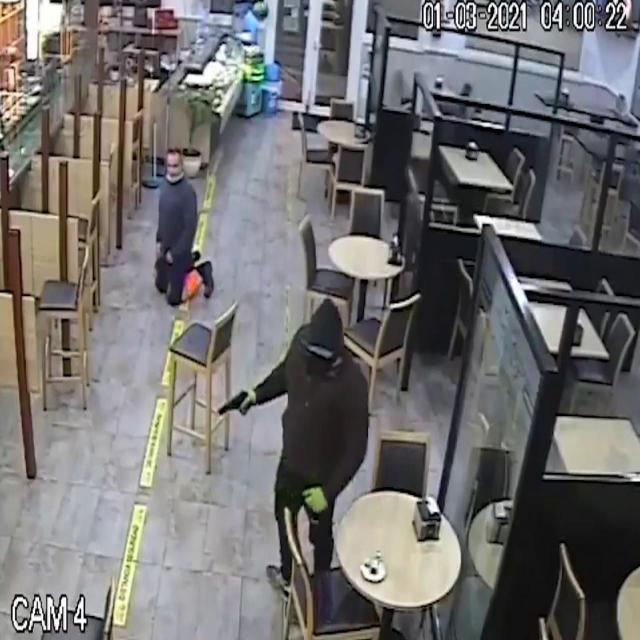gun: (205, 382, 270, 438)
